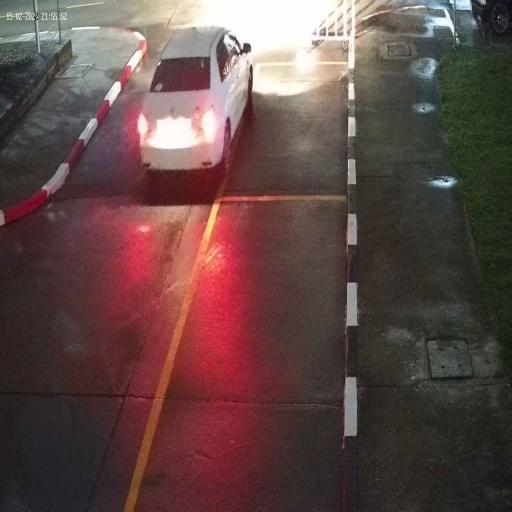car: (138, 26, 254, 173)
